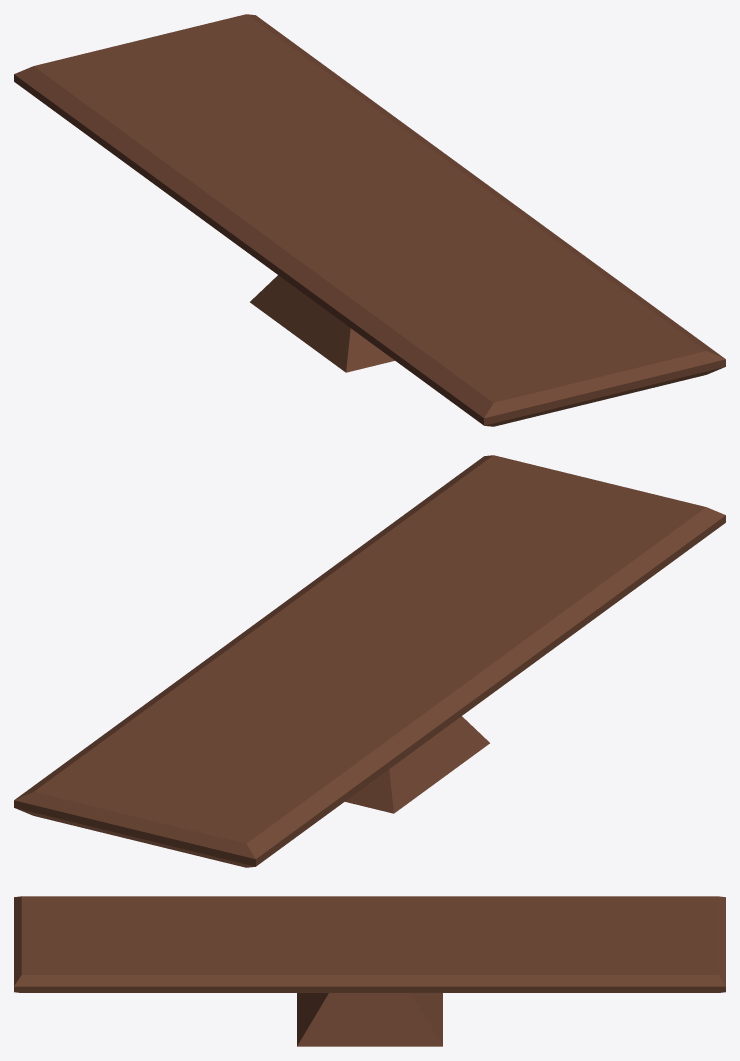
The model's file is FNG_Table.fbx.
3 views of the same model, one above another, from view 1: azimuth 30°, elevation 25°; view 2: azimuth 150°, elevation 25°; view 3: azimuth 270°, elevation 25° (orthographic). The views are drawn at different scales.
Visible parts, largest first — view 1: Cube; view 2: Cube; view 3: Cube.
Boxes of the visible parts, x1,y1,x2,y2 form: Cube: [14, 14, 725, 426]; Cube: [14, 455, 725, 867]; Cube: [14, 896, 725, 1046].
Size of the model in its own units: 455 by 200 by 1531.
